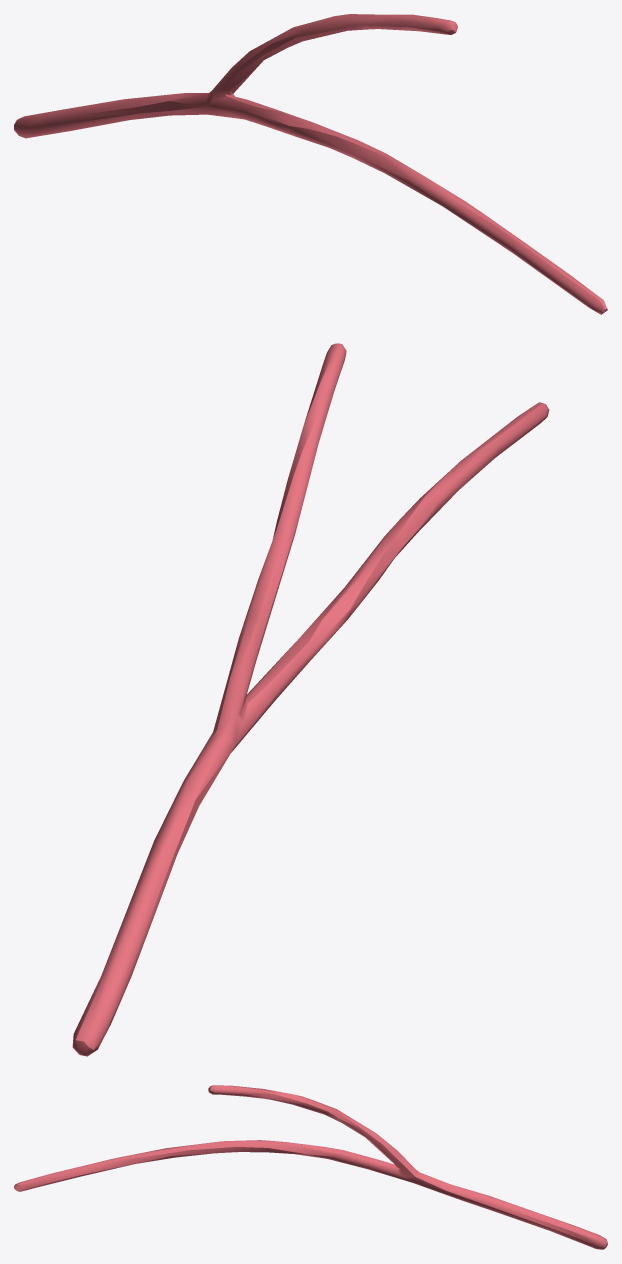
File: fma51012_fj5030.glb
3 renders of one model, top to bottom at view 1: azimuth 30°, elevation 25°; view 2: azimuth 150°, elevation 25°; view 3: azimuth 270°, elevation 25°, orthographic. The views are drawn at different scales.
Visible parts, largest first — view 1: FMA51012_FJ5030; view 2: FMA51012_FJ5030; view 3: FMA51012_FJ5030.
Part boxes in pixels (bbox=[...]): FMA51012_FJ5030: bbox=[14, 14, 607, 314]; FMA51012_FJ5030: bbox=[72, 343, 549, 1056]; FMA51012_FJ5030: bbox=[14, 1085, 607, 1249].
Bounding box in the file's own units: 0.00361 × 0.00868 × 0.0237.
